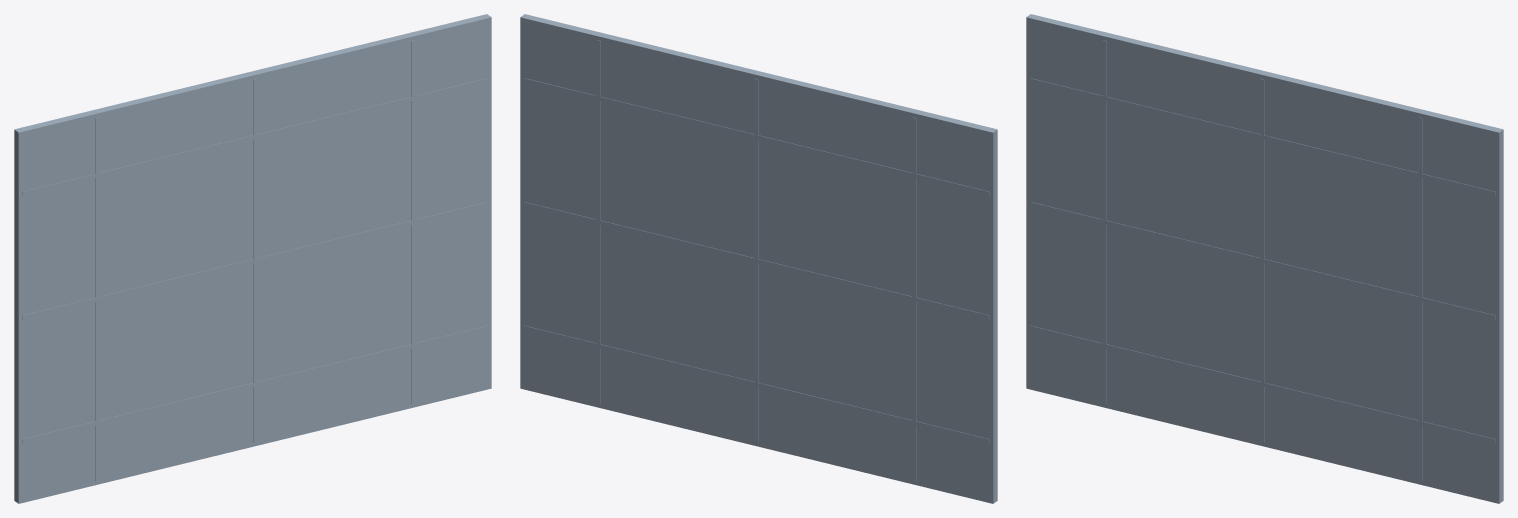
Rendered from library-window-wall.glb.
3 renders of one model, left to right at view 1: azimuth 30°, elevation 25°; view 2: azimuth 150°, elevation 25°; view 3: azimuth 330°, elevation 25°, orthographic.
Visible parts, largest first — view 1: frame_outer, mullion_h_0, mullion_h_3, mullion_h_-3, mullion_v_-4, mullion_v_0, mullion_v_4; view 2: frame_outer, mullion_h_0, mullion_h_3, mullion_h_-3, mullion_v_-4, mullion_v_0, mullion_v_4; view 3: frame_outer, mullion_h_0, mullion_h_3, mullion_h_-3, mullion_v_4, mullion_v_0, mullion_v_-4.
Part boxes in pixels (x1,y1,x2,y2): frame_outer: (14,14,491,503); mullion_h_0: (22,202,487,319); mullion_h_3: (22,78,487,195); mullion_h_-3: (22,325,487,443); mullion_v_-4: (95,117,99,480); mullion_v_0: (253,79,257,442); mullion_v_4: (411,40,414,404); frame_outer: (520,14,997,503); mullion_h_0: (524,202,989,319); mullion_h_3: (524,78,989,195); mullion_h_-3: (524,325,989,443); mullion_v_-4: (912,117,916,480); mullion_v_0: (754,79,758,442); mullion_v_4: (597,40,600,404); frame_outer: (1026,14,1503,503); mullion_h_0: (1030,202,1495,319); mullion_h_3: (1030,78,1495,195); mullion_h_-3: (1030,325,1495,443); mullion_v_4: (1418,117,1422,480); mullion_v_0: (1260,79,1264,442); mullion_v_-4: (1103,40,1106,404).
Bounding box in the file's own units: 12 × 9 × 0.22.
